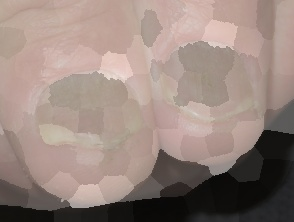Nail_psoriasis: (27, 56, 155, 169), (155, 30, 269, 138)
